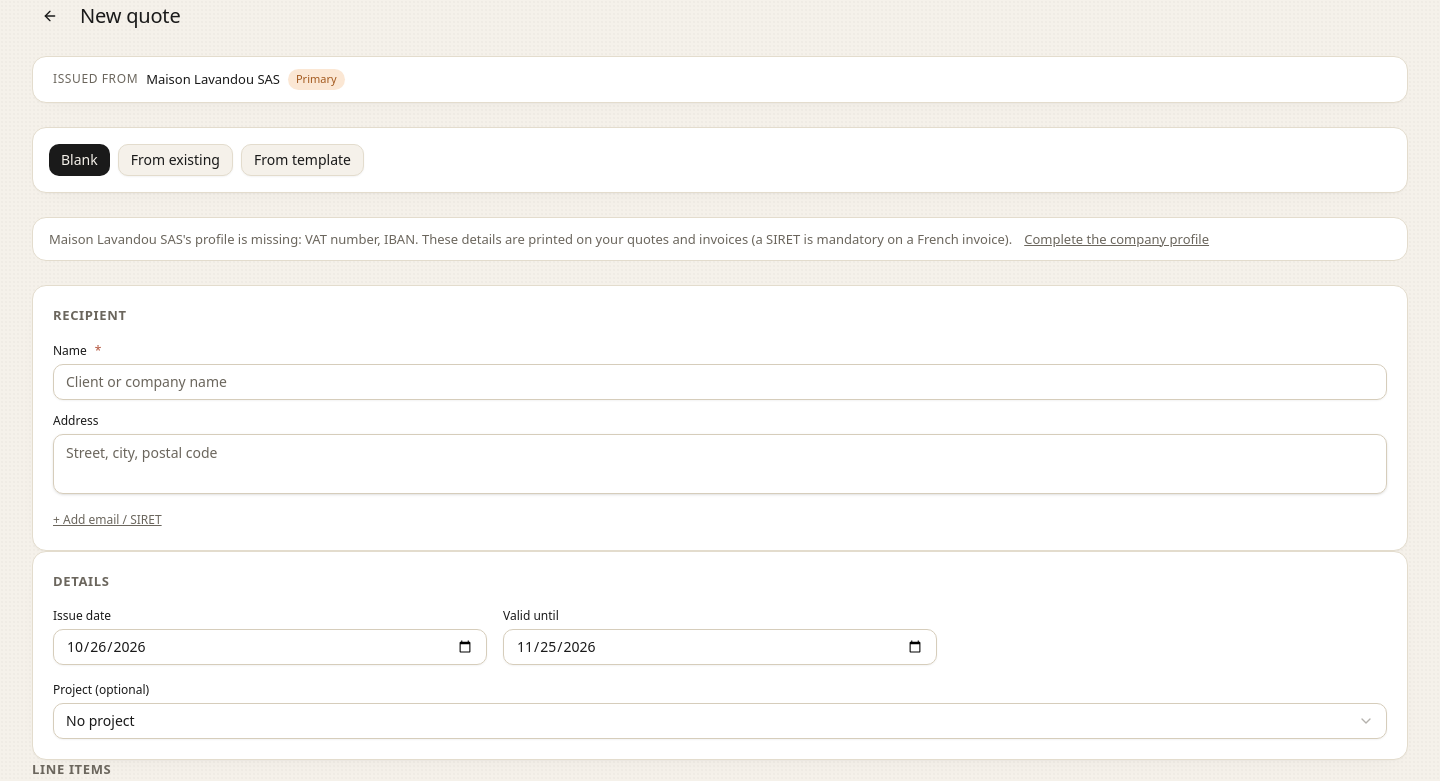
test_form_blank_create_calls_createBillingDocument_with_decimal_strings › shows validation error when no items on submit
Type "Client X" into the field labelled "Name *". click: x=720, y=382
box: [53,364,1387,400]
(page scrolled)
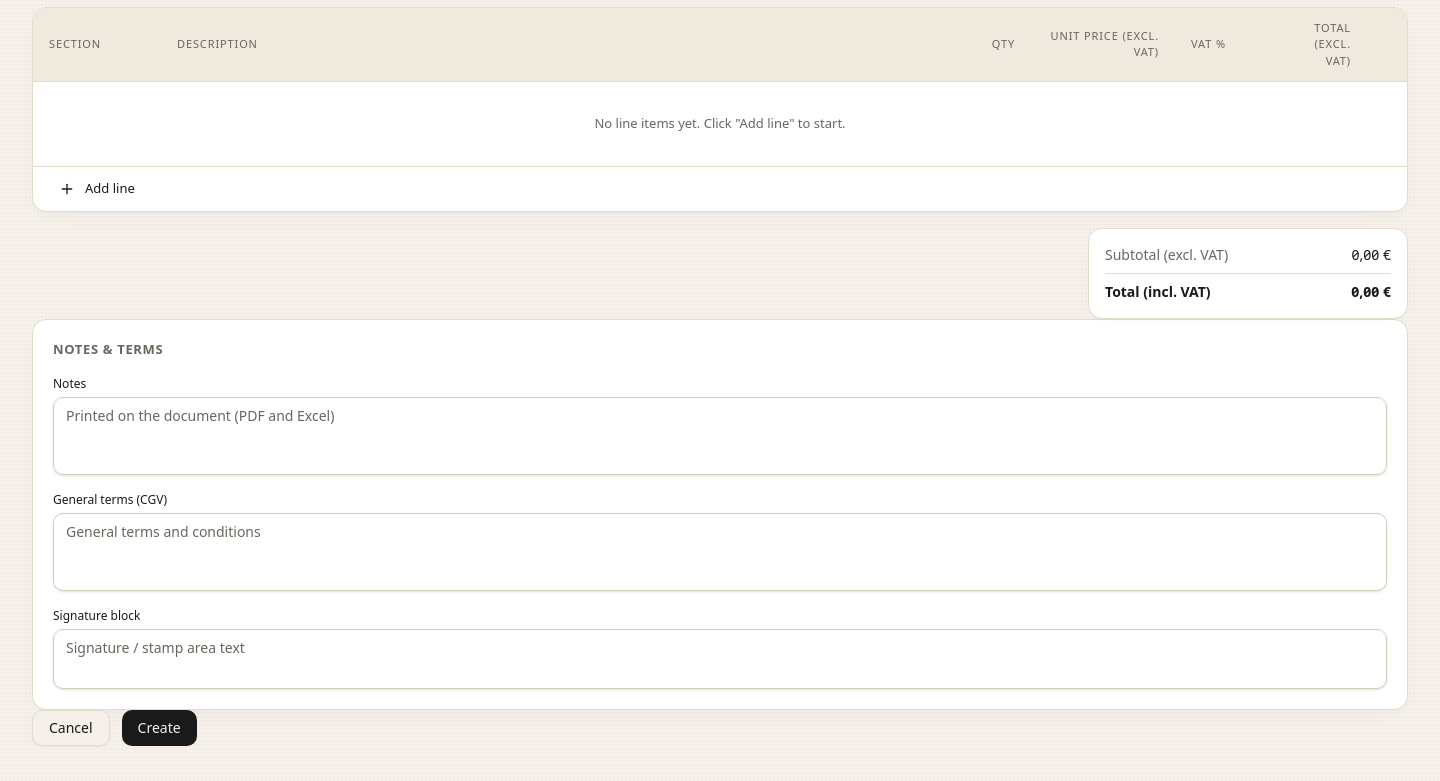
Click the button "Create". click: x=159, y=728
box: [122,710,197,746]
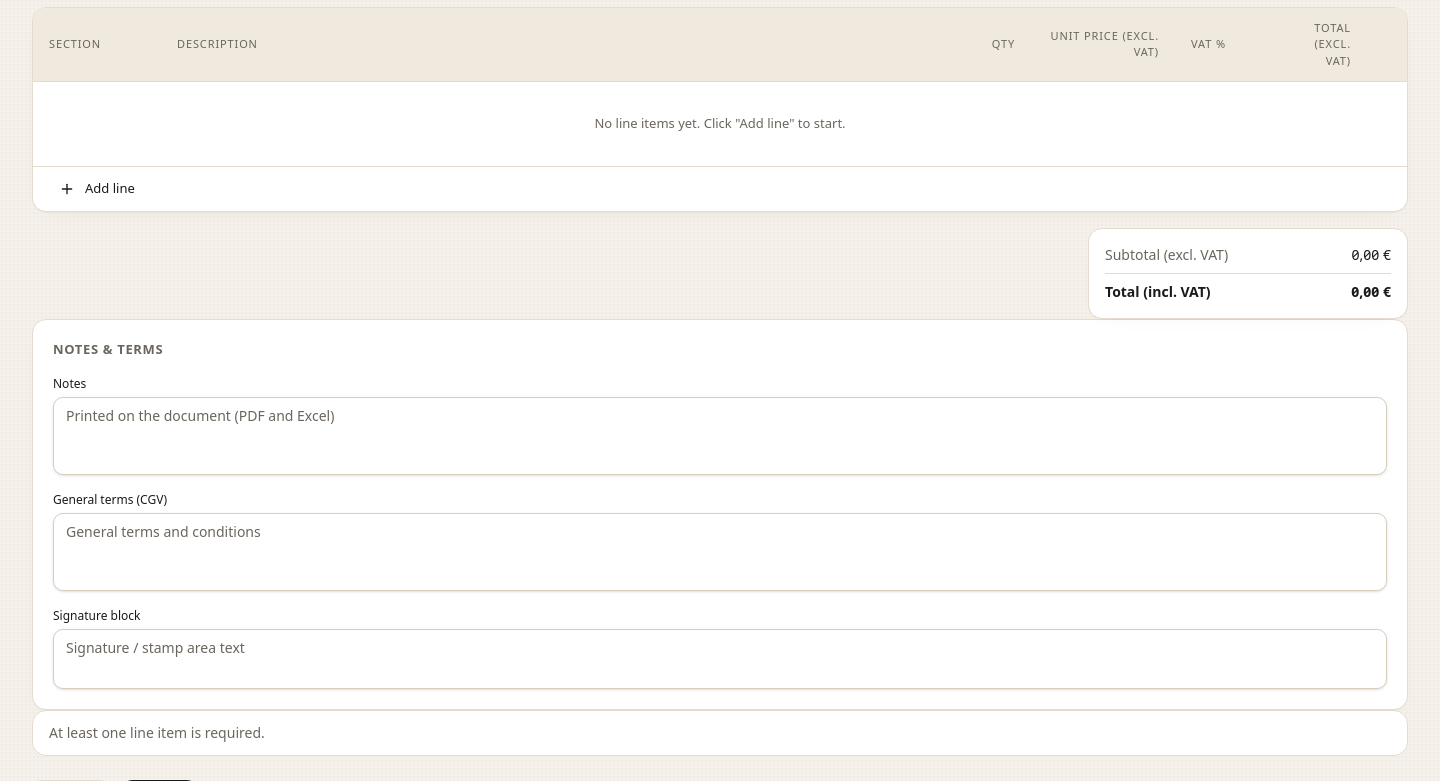
Now the text "At least one line item is required." is shown, box [49,723,265,742]
